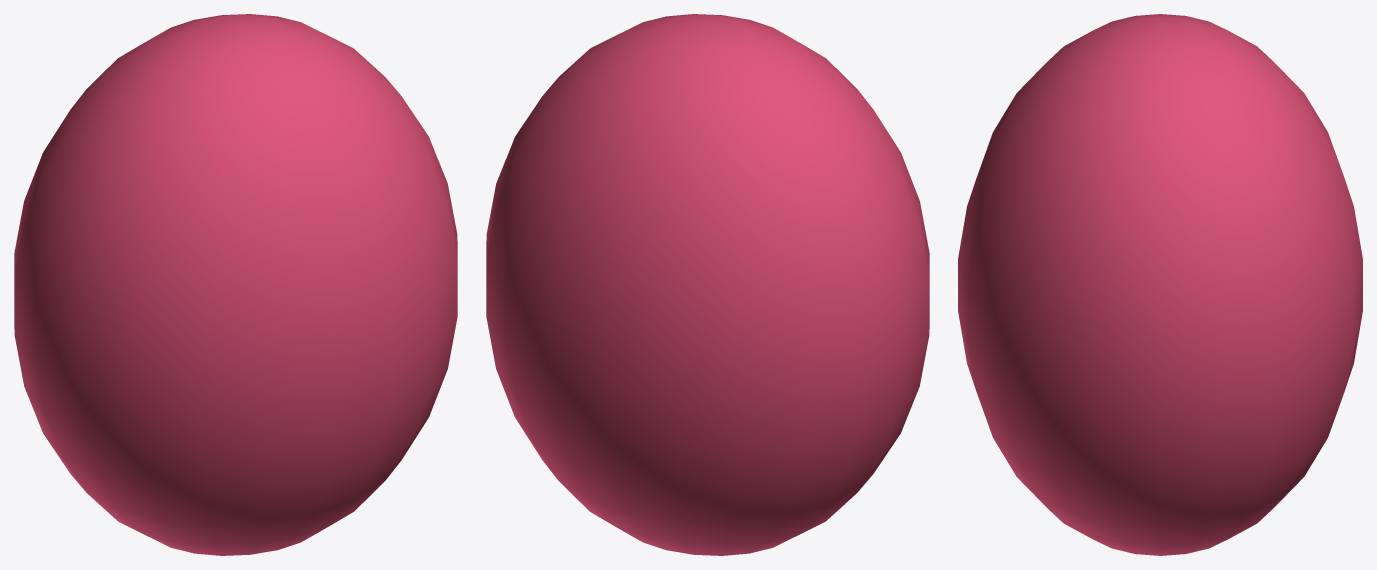
File: heart.glb
3 views of the same model, side by side, from view 1: azimuth 30°, elevation 25°; view 2: azimuth 150°, elevation 25°; view 3: azimuth 270°, elevation 25° (orthographic).
Visible parts, largest first — view 1: organ_heart; view 2: organ_heart; view 3: organ_heart.
Boxes of the visible parts, x1,y1,x2,y2 form: organ_heart: (14,14,457,555); organ_heart: (486,14,929,555); organ_heart: (958,14,1362,555).
Size of the model in its own units: 0.0895 by 0.11 by 0.0796.
